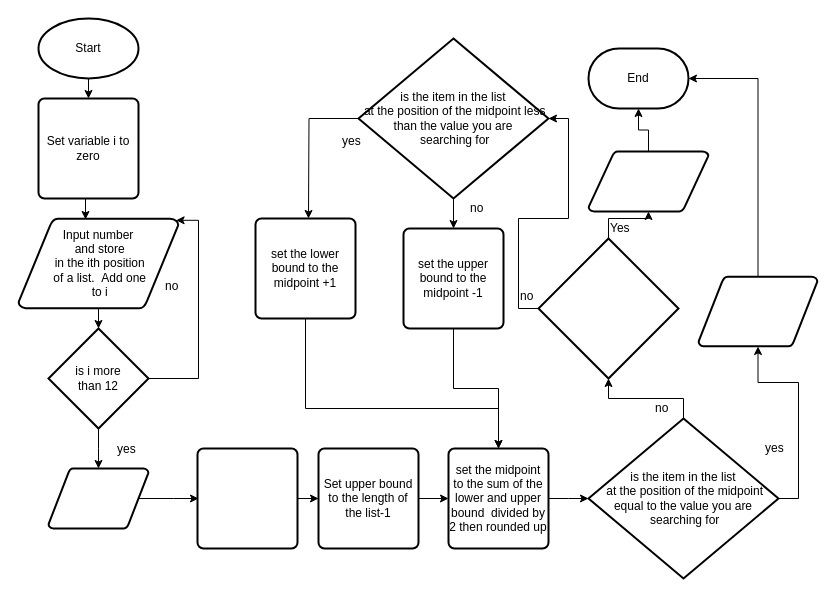
This 835x596 diagram has some shape labels left out. Here are the shapes that lost their labels. From the top down, the centre of each, then its label:
pixel 648 181: output "number not in list
pixel 608 308: Does the lower bound equal the upper bound
pixel 757 311: Output "found the number at position of the midpoint
pixel 98 498: Input number to search for
pixel 247 498: Set lower bound to 0
